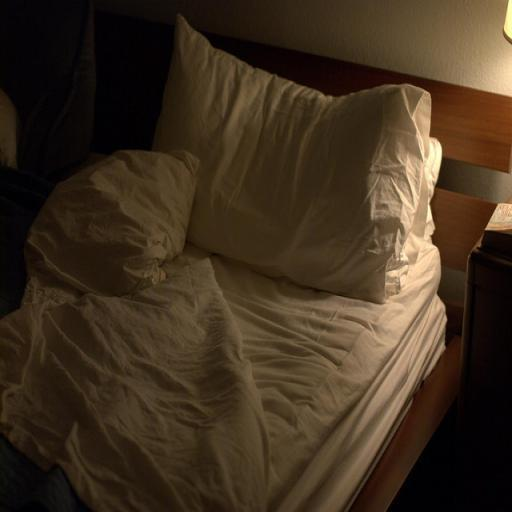bed: (14, 23, 495, 510)
